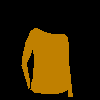maglia: (21, 27, 72, 97)
